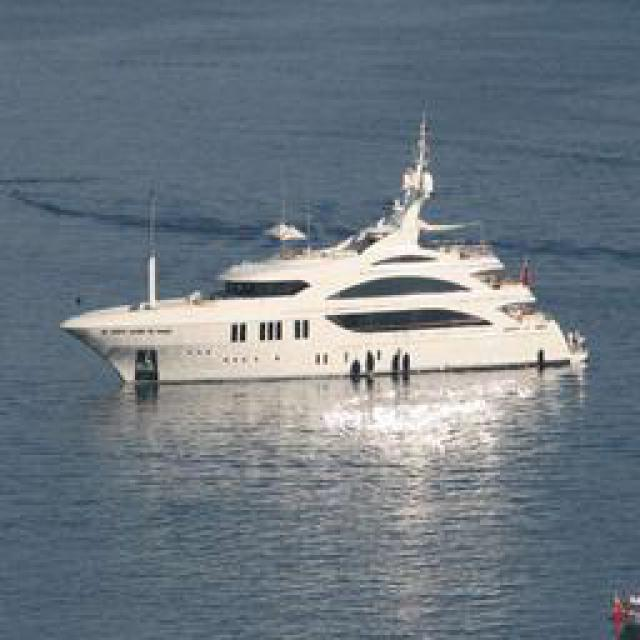Ship: (59, 174, 592, 389)
